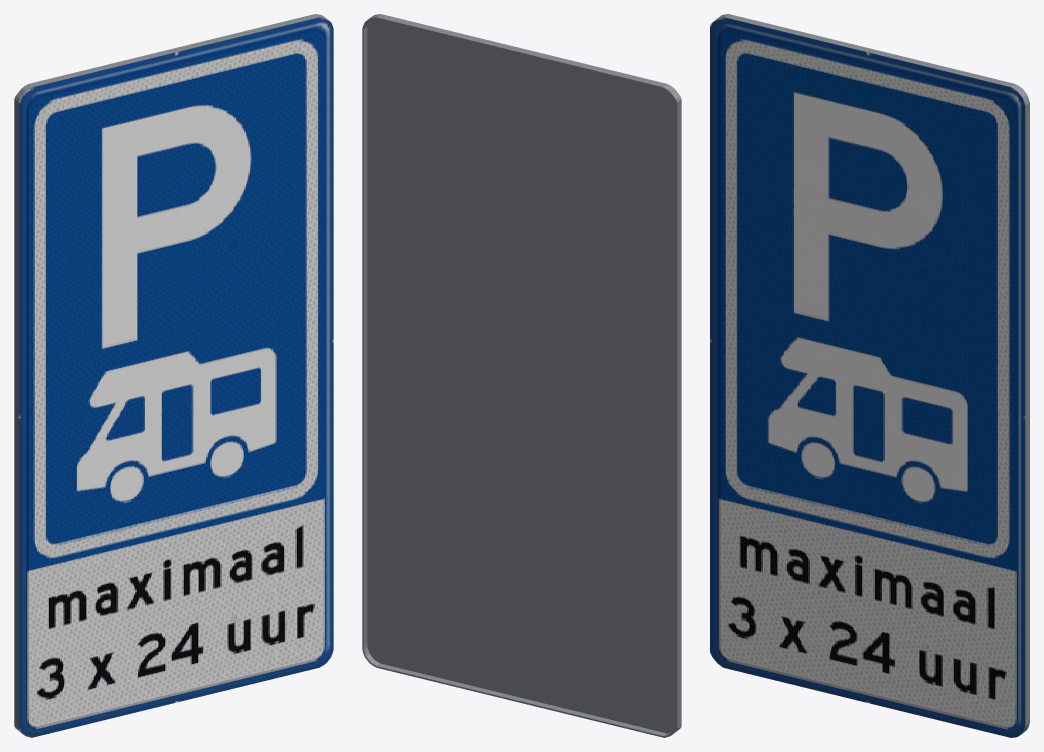
3 views of the same model, side by side, from view 1: azimuth 30°, elevation 25°; view 2: azimuth 150°, elevation 25°; view 3: azimuth 330°, elevation 25° (orthographic).
Visible parts, largest first — view 1: cat_cd8c2506231ed977; view 2: cat_cd8c2506231ed977; view 3: cat_cd8c2506231ed977.
Boxes of the visible parts, x1,y1,x2,y2 form: cat_cd8c2506231ed977: [14, 14, 333, 737]; cat_cd8c2506231ed977: [362, 14, 681, 737]; cat_cd8c2506231ed977: [710, 14, 1029, 737].
Size of the model in its own units: 0.6 by 0.015 by 1.18.
2 materials, 1 textured.
